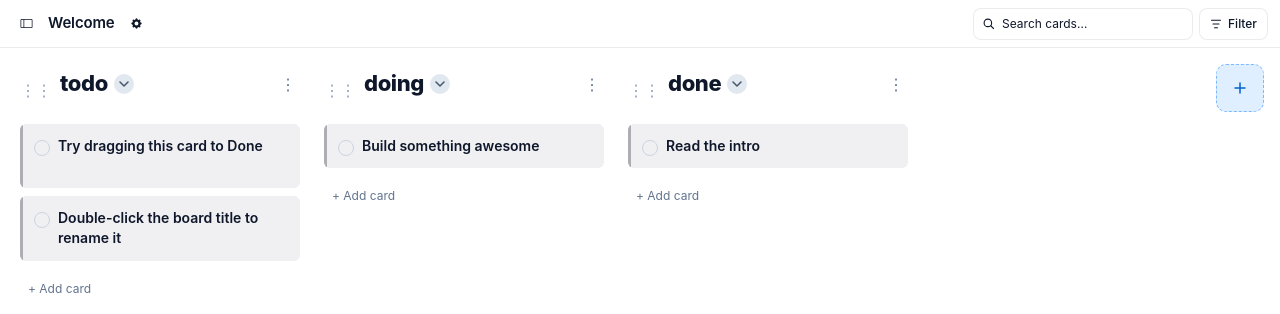
BoardView › renders only the focused column and an exit bar while in focus mode
This screenshot has width=1280, height=314.
Expected: the heading "Todo" is shown, left=60, top=71, right=108, bottom=97
Press the mouse on the button named "column menu Todo" at (288, 84), box left=276, top=68, right=300, bottom=100
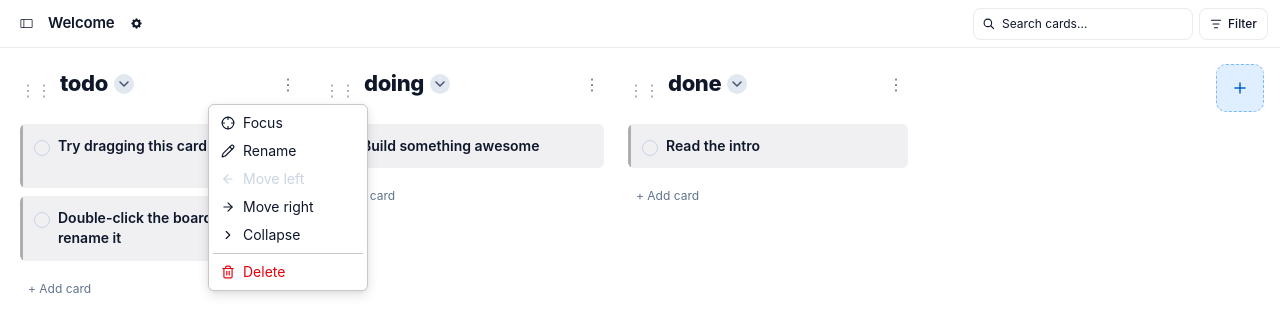
Click the menu item "Focus". click: (252, 122)
box: left=221, top=114, right=283, bottom=131
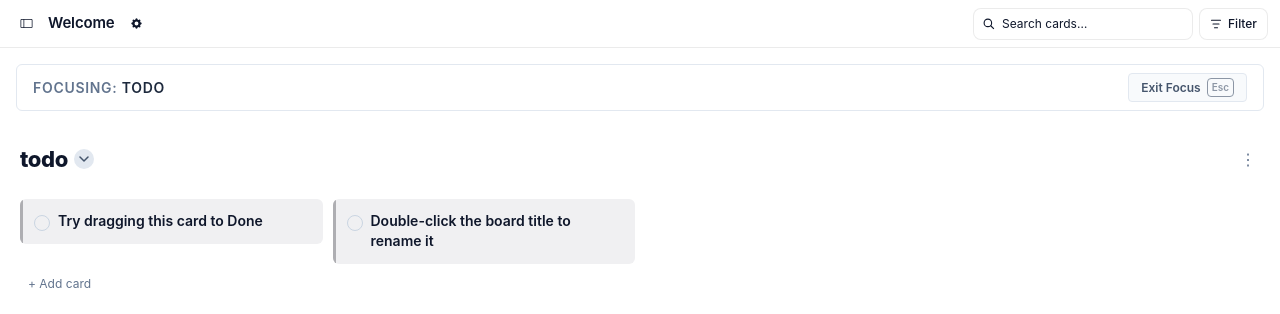
Now the text "Focusing: Todo" is shown, box left=33, top=78, right=165, bottom=98
Now the heading "Doing" is gone
